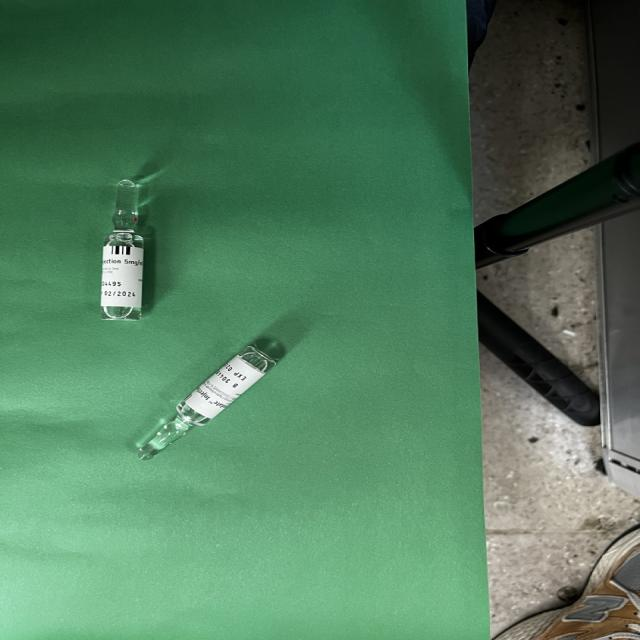Ampoules: (137, 346, 278, 460), (101, 179, 145, 320)
